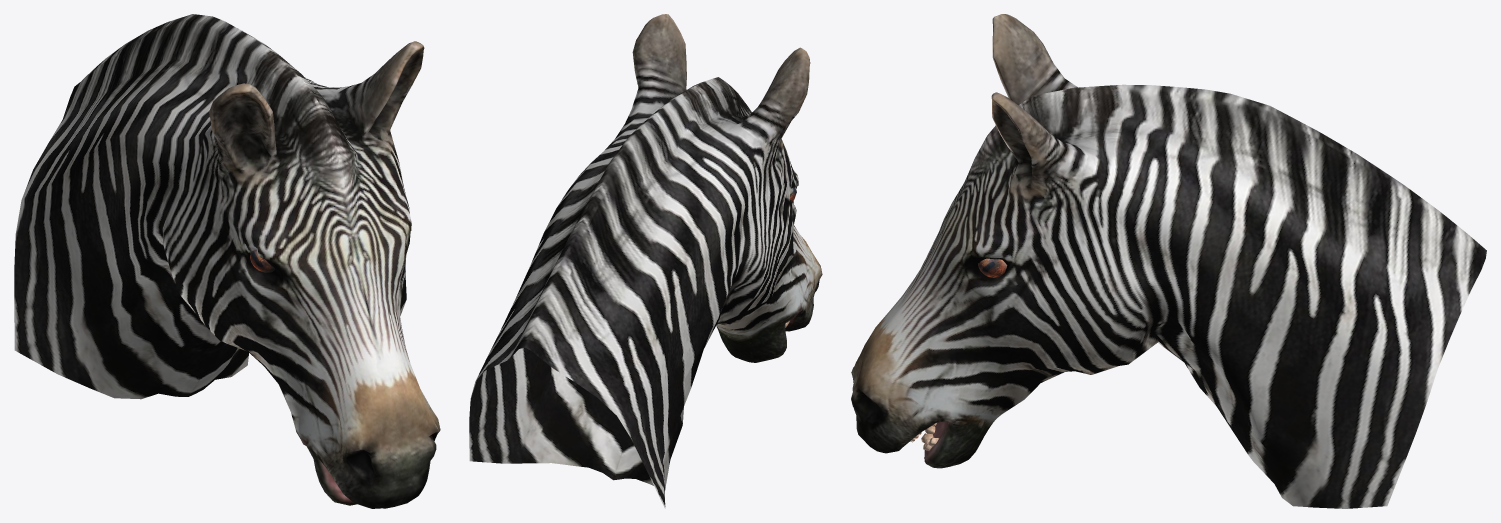
File: z_head.obj
3 views of the same model, side by side, from view 1: azimuth 30°, elevation 25°; view 2: azimuth 150°, elevation 25°; view 3: azimuth 270°, elevation 25° (orthographic). The views are drawn at different scales.
Parts seen in each view (by area): view 1: Object_50.006; view 2: Object_50.006; view 3: Object_50.006.
Boxes of the visible parts, bbox=[...] form: Object_50.006: bbox=[14, 14, 440, 508]; Object_50.006: bbox=[469, 14, 822, 508]; Object_50.006: bbox=[851, 14, 1486, 508].
Size of the model in its own units: 9.7 by 17.21 by 23.08.
Materials: 1 (1 with a texture image).
